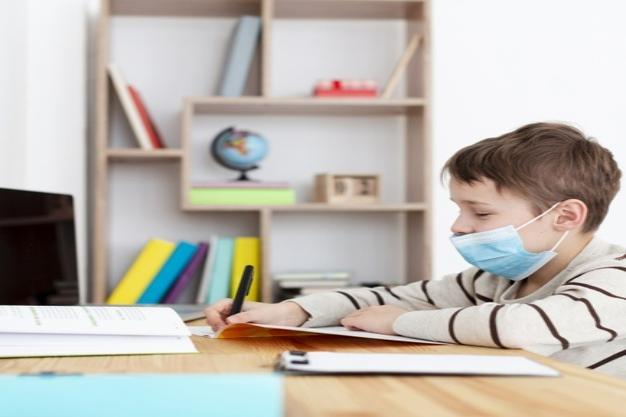mask_weared_incorrect: (442, 119, 617, 283)
